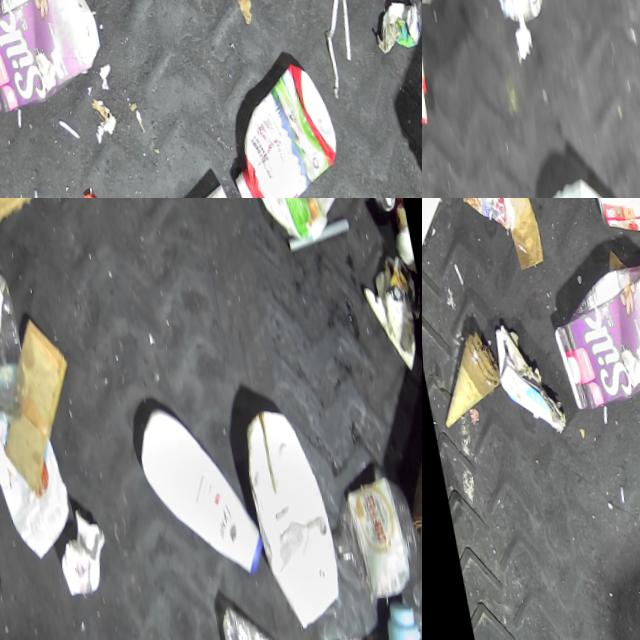can: (587, 198, 640, 247), (473, 0, 544, 25)
milk_jug: (229, 386, 345, 626), (330, 576, 422, 640)
plastic_bottle: (0, 229, 31, 424)
